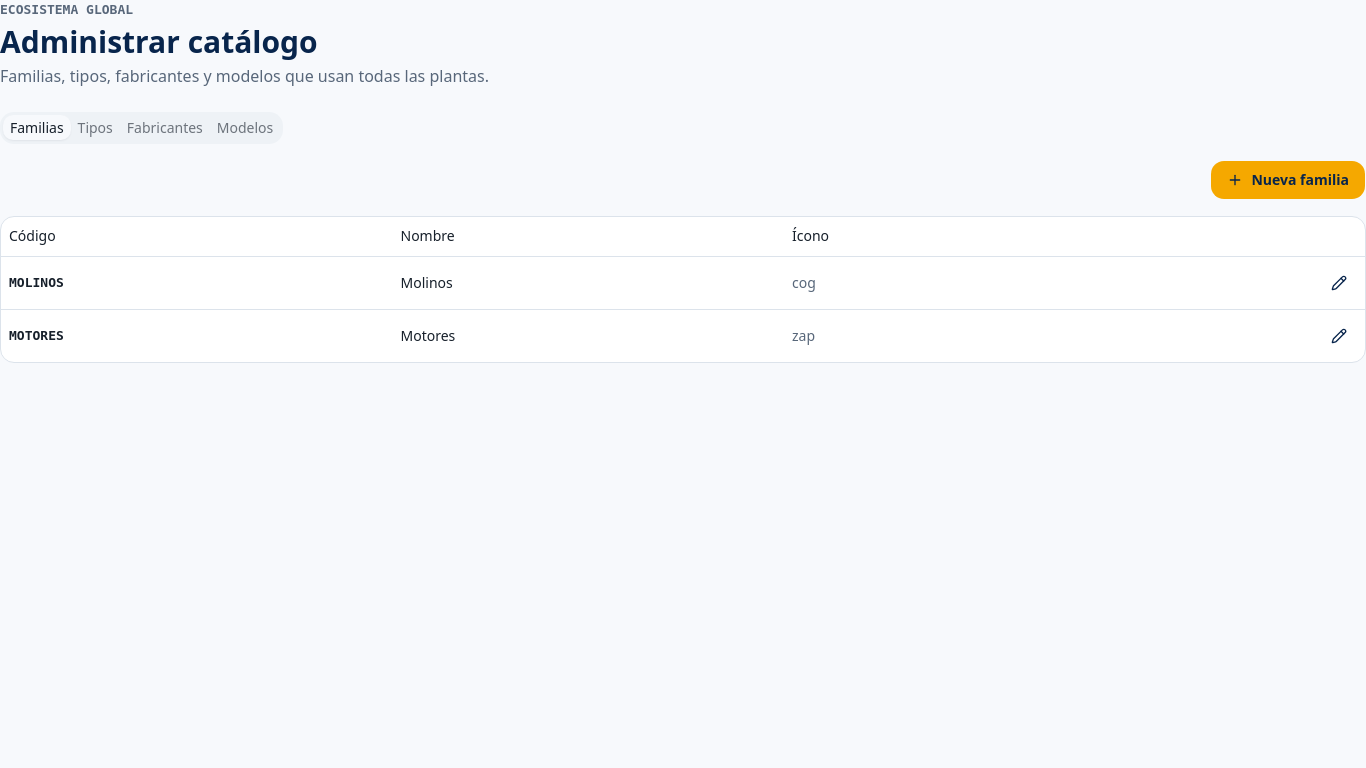
Test: Administrar catálogo › familias › un código repetido (409) o inválido (400) se muestra y el diálogo sigue abierto
Click the button "Nueva familia". click: (1288,180)
box: [1210,160,1365,200]
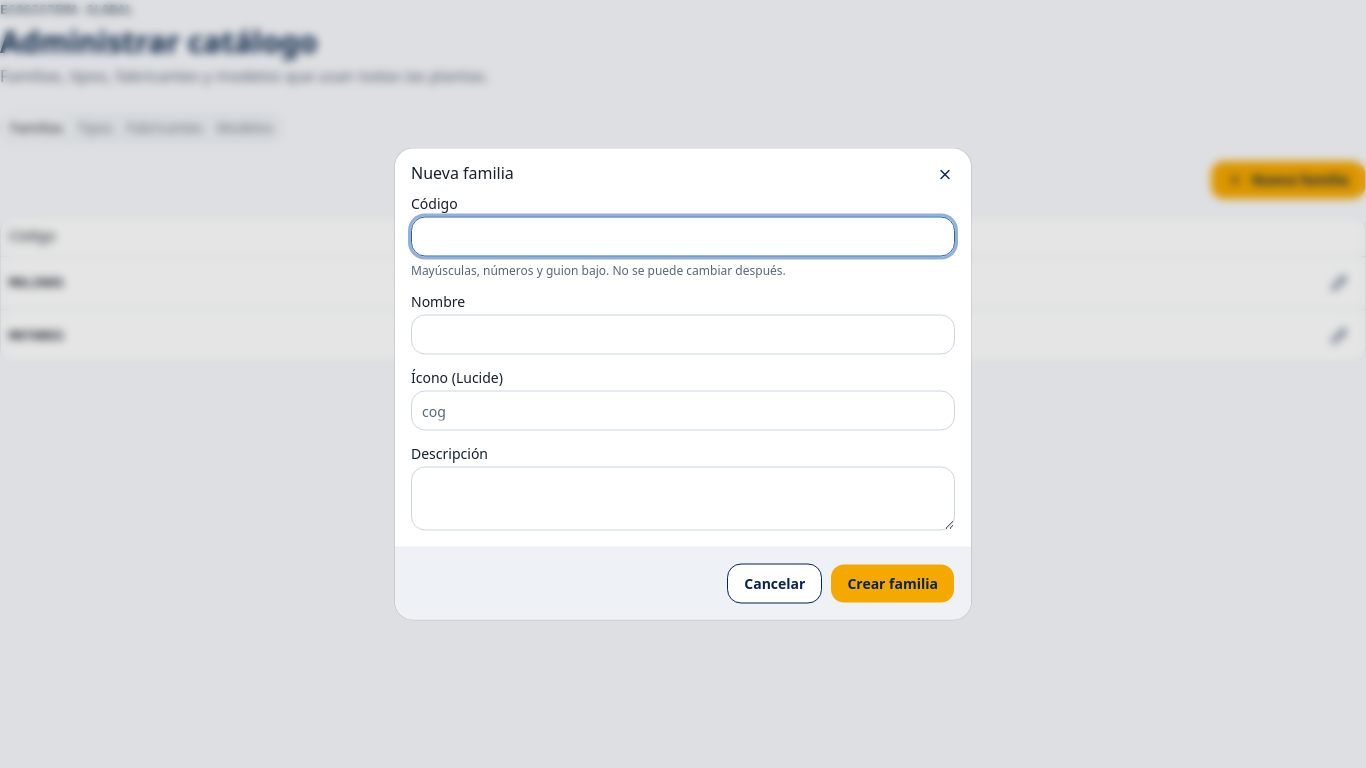
Type "MOLINOS" into the field labelled "Código". click: (683,236)
box: [411,216,955,256]
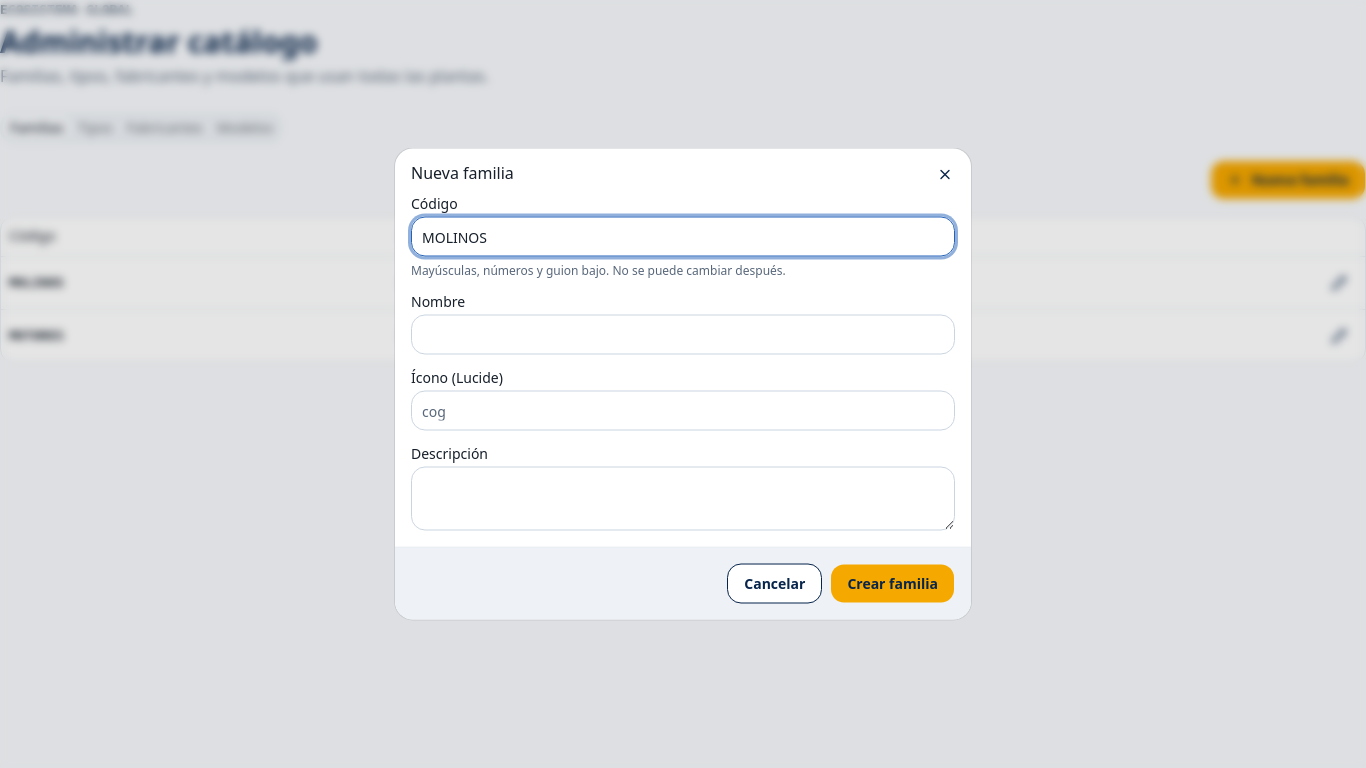
Type "Otra" into the field labelled "Nombre". click: (683,334)
box: [411,314,955,354]
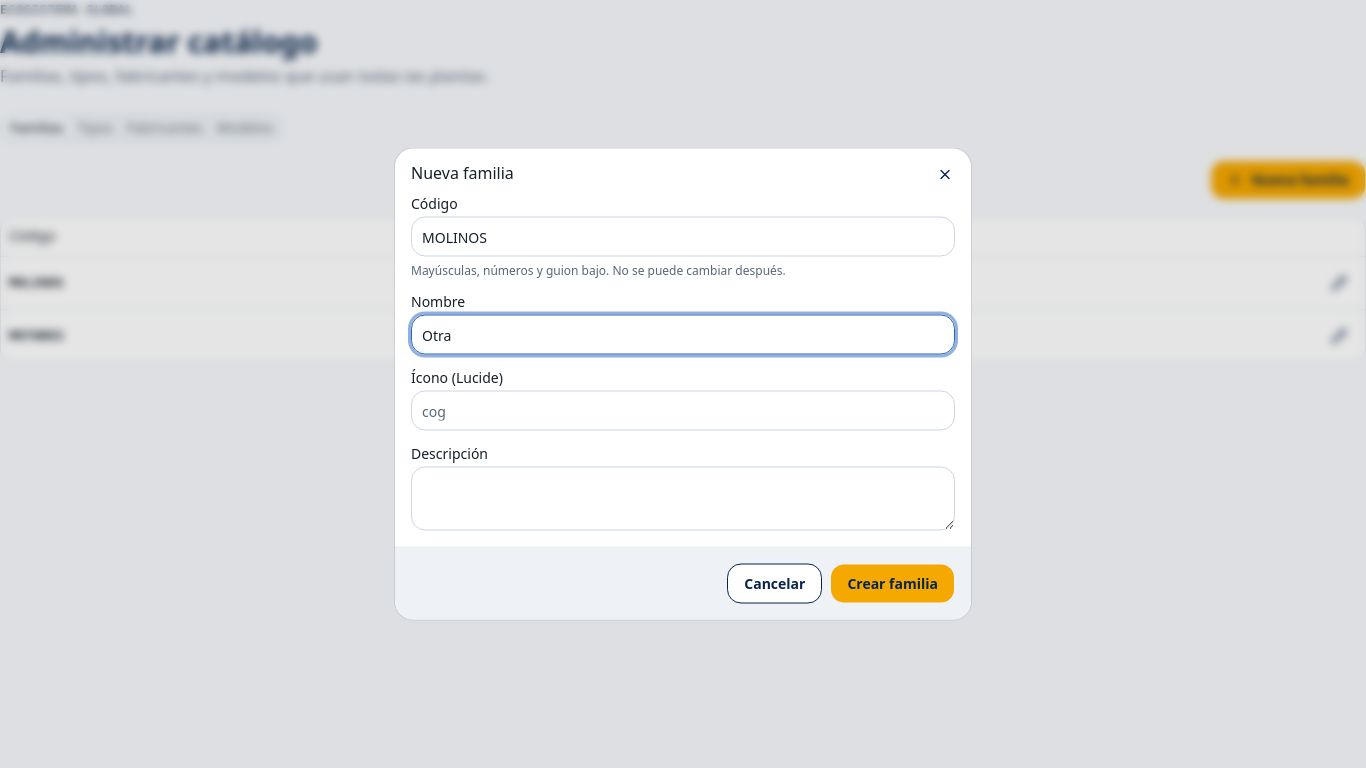
Click the button "Crear familia". click: (893,584)
box: [830,564,955,604]
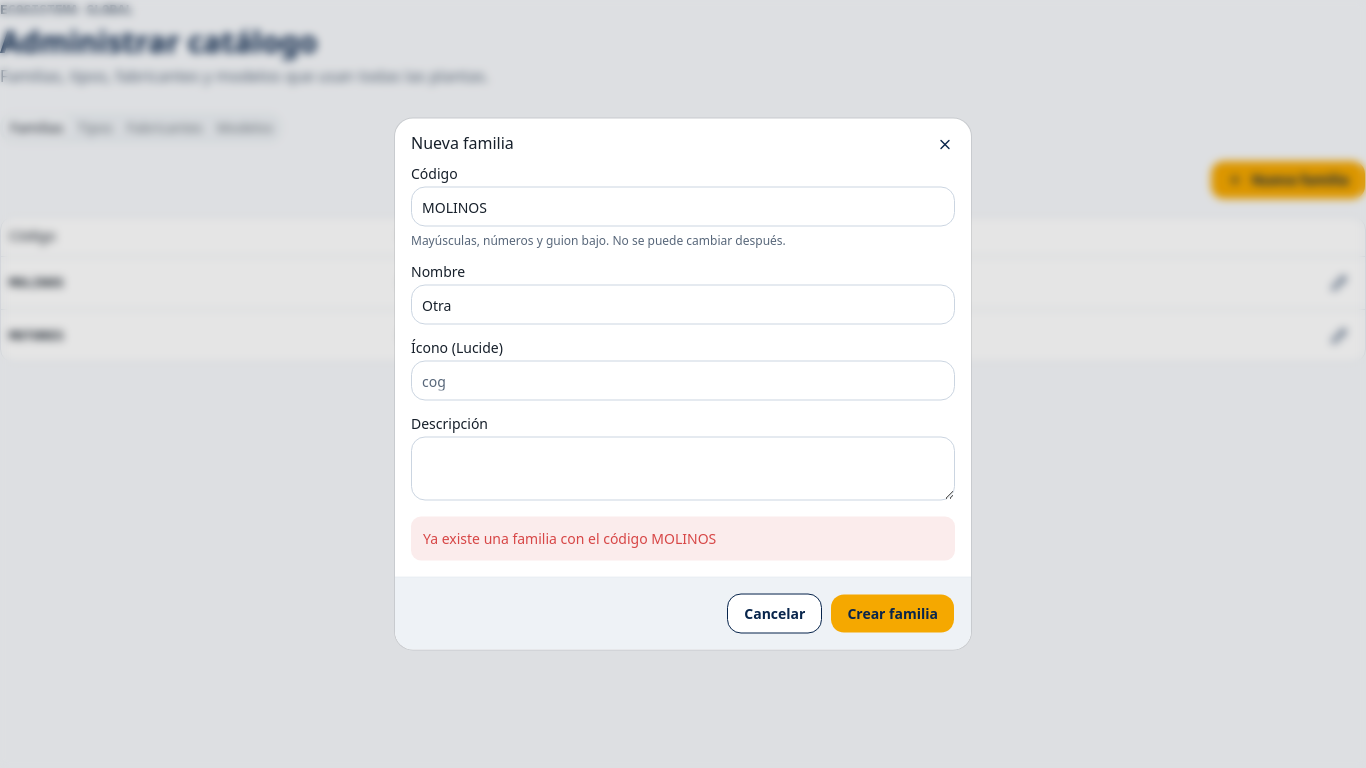
Expected: the dialog is shown, [395,118,971,650]
Expected: the text "Ya existe una familia con el código MOLINOS" is shown, [411,516,955,560]
